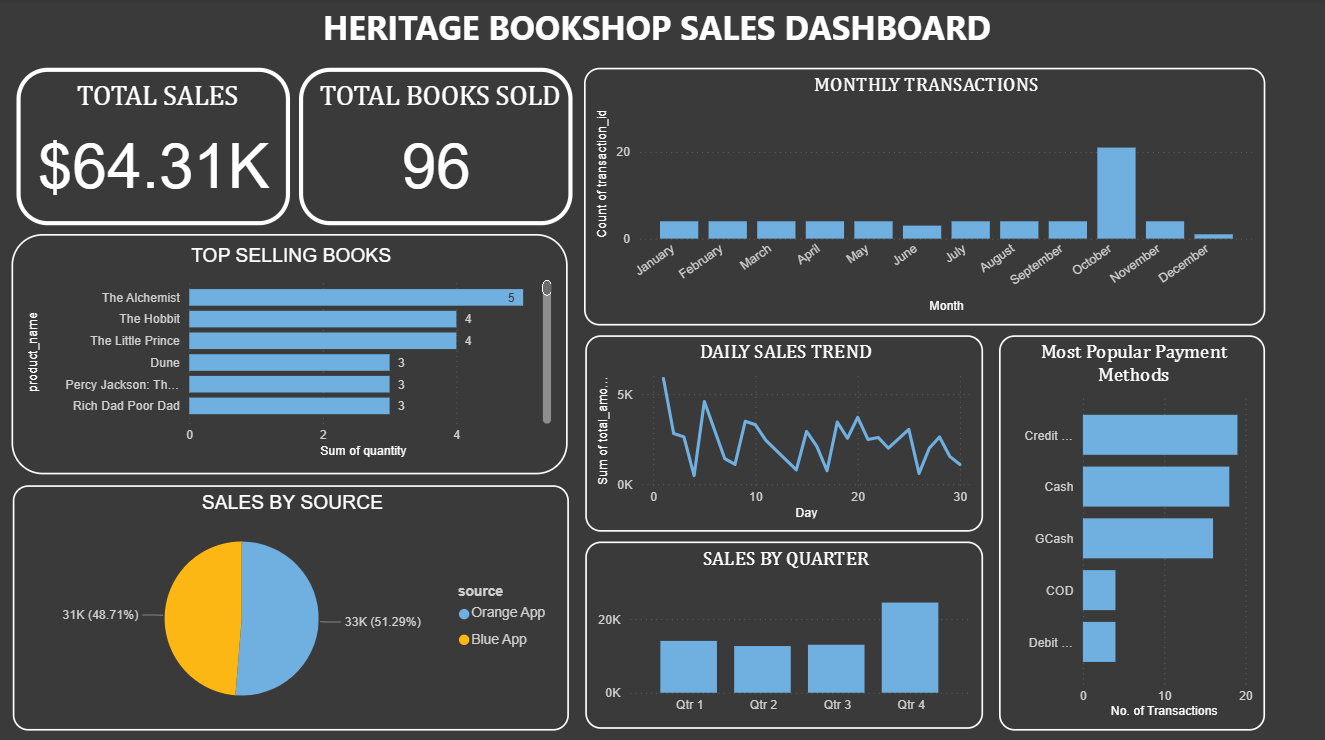

The page's visual inventory and layout, read from the dashboard file:
{"tool":"powerbi","page":{"name":"Page 1","canvas":[1280,720],"ordinal":0},"visuals":[{"type":"barChart","title":"TOP SELLING BOOKS","fields":{"Category":["sales_items.product_name"],"Y":["Sum(sales_items.quantity)"]},"box":[12.1,226.8,536.9,231.6],"z":0},{"type":"pieChart","title":"SALES BY SOURCE","fields":{"Category":["sales.source"],"Y":["Sum(sales.total_amount)"]},"box":[13.3,469.3,536.9,236.5],"z":1000},{"type":"card","title":"TOTAL SALES","fields":{"Values":["Sum(sales.total_amount)"]},"box":[16.9,66.4,264.2,152],"z":2000},{"type":"textbox","box":[307.6,0,663.5,57.9],"z":3000},{"type":"card","title":"TOTAL BOOKS SOLD","fields":{"Values":["Sum(sales_items.quantity)"]},"box":[289.5,66.4,264.2,152],"z":3001},{"type":"lineChart","title":"DAILY SALES TREND","fields":{"Y":["Sum(sales.total_amount)"],"Category":["sales.transaction_date.Variation.Date Hierarchy.Day"]},"box":[565.8,324.5,383.6,189.4],"z":3002},{"type":"columnChart","title":"MONTHLY TRANSACTIONS","fields":{"Y":["CountNonNull(sales.transaction_id)"],"Category":["sales.transaction_date.Variation.Date Hierarchy.Month"]},"box":[564.6,66.4,657.5,248.5],"z":3003},{"type":"clusteredBarChart","title":"Most Popular Payment Methods","fields":{"Category":["sales.payment_type"],"Y":["CountNonNull(sales.transaction_id)"]},"box":[965.2,324.5,257,381.2],"z":3004},{"type":"lineStackedColumnComboChart","title":"SALES BY QUARTER","fields":{"Category":["sales.transaction_date.Variation.Date Hierarchy.Quarter","sales.transaction_date.Variation.Date Hierarchy.Month","sales.transaction_date.Variation.Date Hierarchy.Day"],"Y":["Sum(sales.total_amount)"]},"box":[565.8,523.6,383.6,181],"z":3005}]}

Visuals, with their boxes in screenshot pixels (x1, y1, x2, y2), scaled from the page's 1280x720 canvas onto the 1325x740 screenshot:
"TOP SELLING BOOKS" barChart: box(13, 233, 568, 471)
"SALES BY SOURCE" pieChart: box(14, 482, 570, 725)
"TOTAL SALES" card: box(17, 68, 291, 224)
textbox: box(318, 0, 1005, 60)
"TOTAL BOOKS SOLD" card: box(300, 68, 573, 224)
"DAILY SALES TREND" lineChart: box(586, 334, 983, 528)
"MONTHLY TRANSACTIONS" columnChart: box(584, 68, 1265, 324)
"Most Popular Payment Methods" clusteredBarChart: box(999, 334, 1265, 725)
"SALES BY QUARTER" lineStackedColumnComboChart: box(586, 538, 983, 724)
